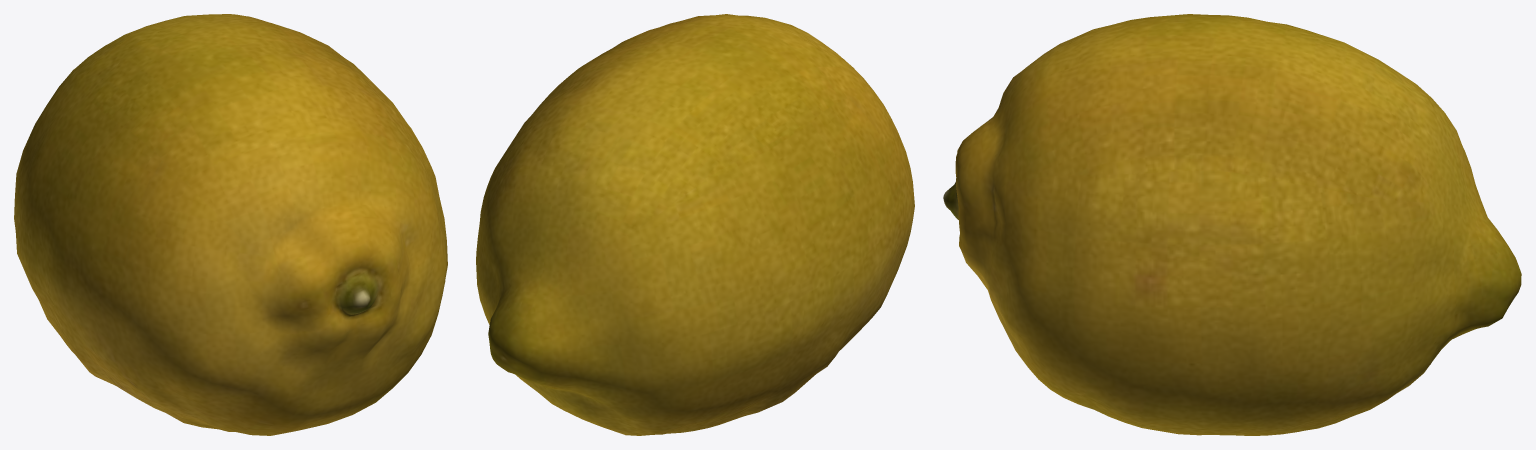
Rendered from lemon.glb.
3 renders of one model, left to right at view 1: azimuth 30°, elevation 25°; view 2: azimuth 150°, elevation 25°; view 3: azimuth 270°, elevation 25°, orthographic. The views are drawn at different scales.
Parts seen in each view (by area): view 1: lemon; view 2: lemon; view 3: lemon.
Part boxes in pixels (box(x1,y1,x2,y2)): lemon: box(14, 14, 447, 435); lemon: box(476, 14, 914, 435); lemon: box(943, 14, 1521, 435).
Bounding box in the file's own units: 0.0687 × 0.0683 × 0.0954.
1 material, 1 textured.
